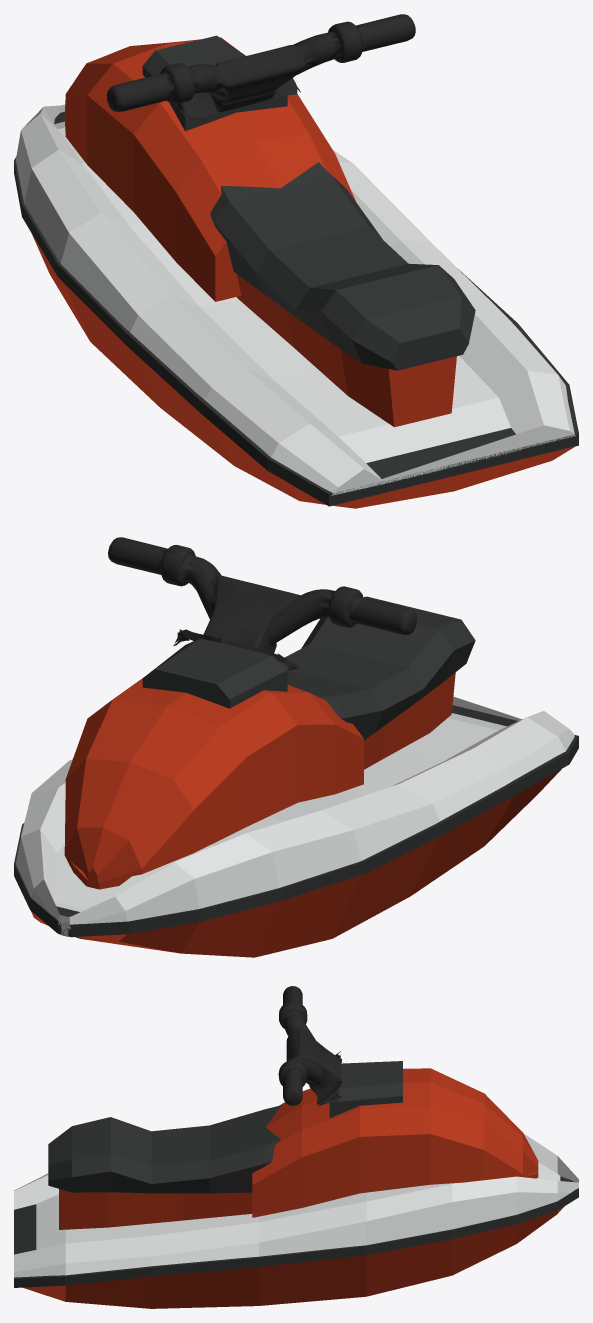
Rendered from jetski-planar.glb.
3 renders of one model, top to bottom at view 1: azimuth 30°, elevation 25°; view 2: azimuth 150°, elevation 25°; view 3: azimuth 270°, elevation 25°, orthographic. The views are drawn at different scales.
Parts seen in each view (by area): view 1: Body, HandlebarMesh; view 2: Body, HandlebarMesh; view 3: Body, HandlebarMesh.
Boxes of the visible parts, x1,y1,x2,y2 form: Body: (14, 35, 578, 508); HandlebarMesh: (107, 14, 415, 121); Body: (14, 596, 578, 957); HandlebarMesh: (108, 537, 416, 672); Body: (14, 1061, 578, 1308); HandlebarMesh: (278, 986, 342, 1106).
Bounding box in the file's own units: 1.24 × 1.22 × 2.63.
5 materials, 1 textured.
